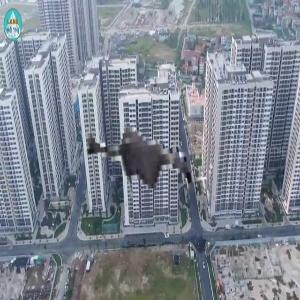drone: (51, 51, 225, 225)
